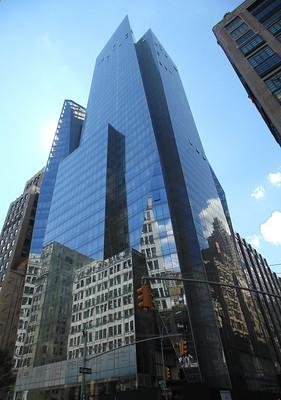building: (7, 11, 252, 396)
